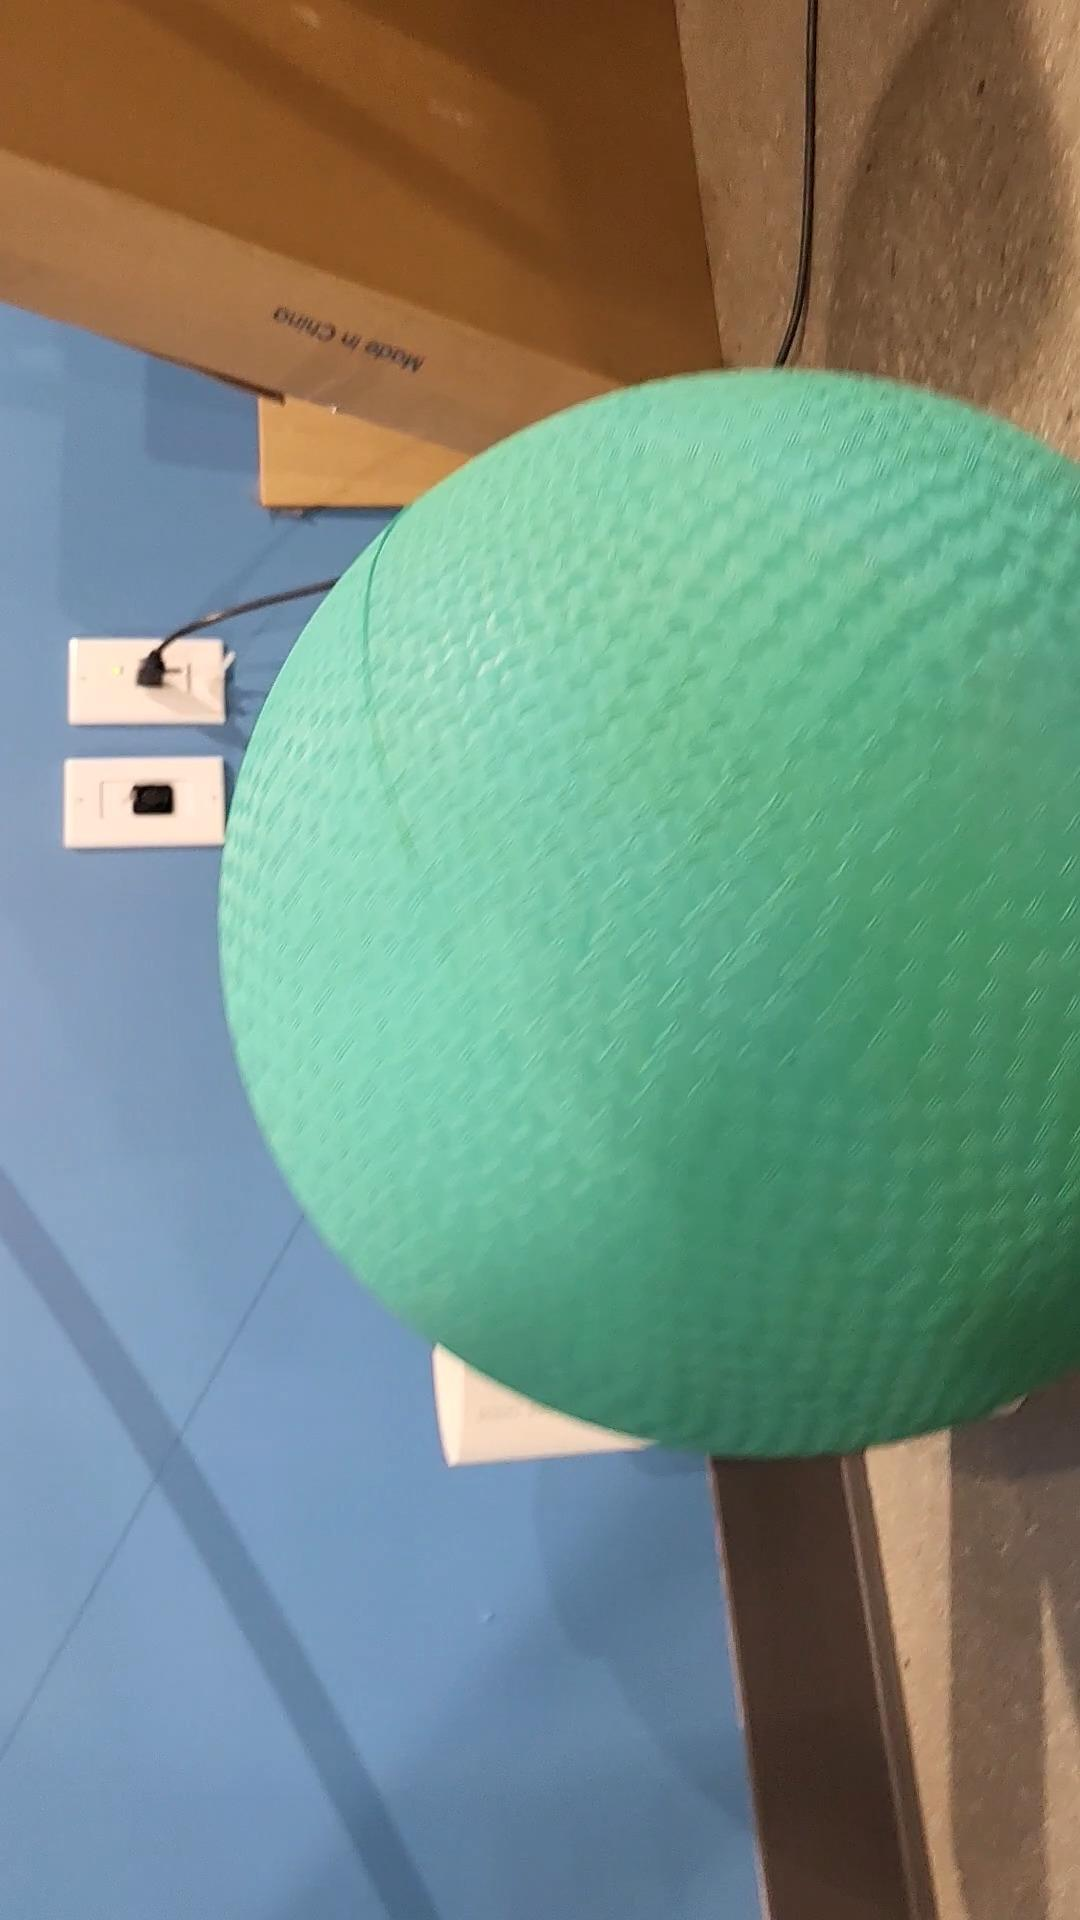algae: (214, 347, 1080, 1464)
coral: (406, 1335, 663, 1484)
